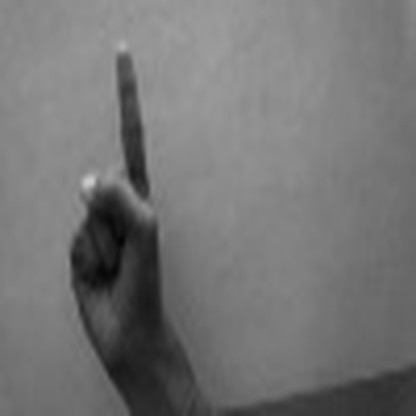d: (54, 41, 181, 369)
